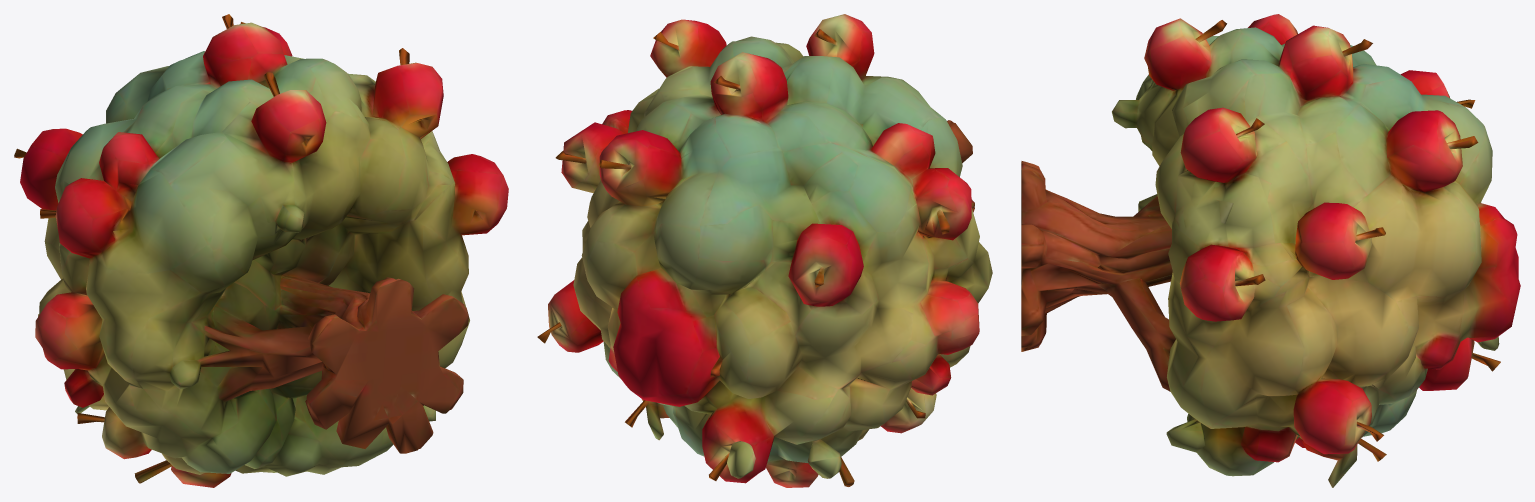
3 renders of one model, left to right at view 1: azimuth 30°, elevation 25°; view 2: azimuth 150°, elevation 25°; view 3: azimuth 270°, elevation 25°, orthographic. The views are drawn at different scales.
Visible parts, largest first — view 1: material; view 2: material; view 3: material.
Part boxes in pixels (bbox=[...]): material: bbox=[14, 14, 508, 487]; material: bbox=[537, 14, 992, 487]; material: bbox=[1021, 14, 1520, 487].
Bounding box in the file's own units: 0.9779 × 0.9701 × 1.
Materials: 1 (1 with a texture image).
